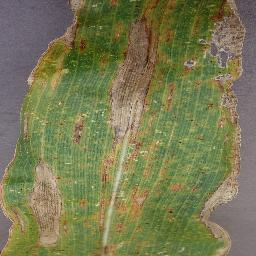Corn_Blight: (1, 1, 247, 256)
